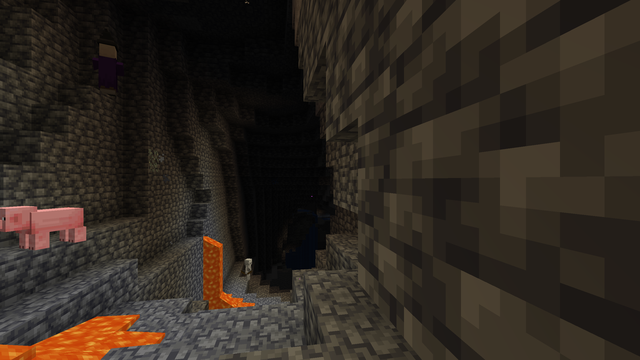cochons: (11, 206, 84, 249)
sorcieres: (94, 40, 120, 96)
squelettes: (244, 258, 251, 281)
